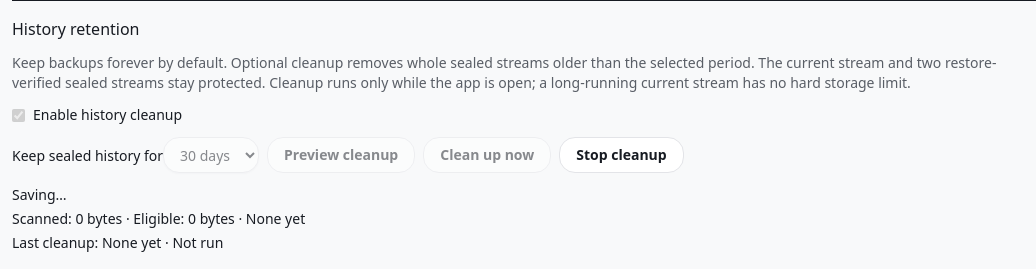
Test case: history retention › shows and cancels backend background work without a local pending mutation
Expected: the button "Preview cleanup" is disabled, [267,137,415,173]
Click the button "Stop cleanup".
click(622, 155)  # box [559,137,684,173]
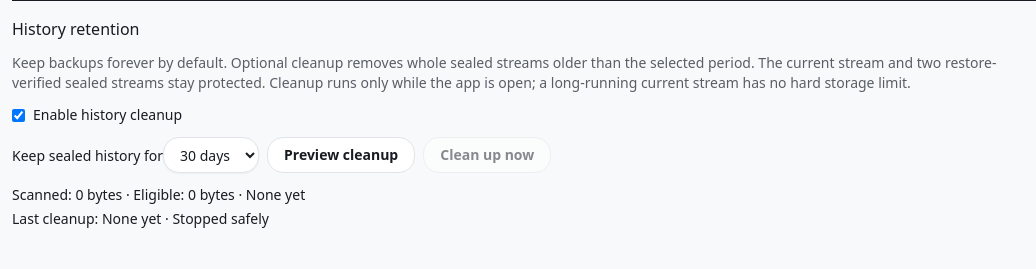
Result: the button "Stop cleanup" is gone
Result: the button "Preview cleanup" is enabled at [267,137,415,173]
